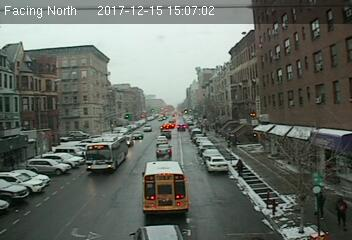bus: (84, 134, 128, 173)
car: (129, 223, 185, 240), (204, 155, 229, 173), (155, 144, 172, 154), (155, 135, 167, 143), (131, 131, 143, 139), (177, 124, 185, 132)
pedestrian: (334, 192, 351, 237), (316, 186, 326, 223), (235, 156, 244, 178)
truck: (141, 160, 189, 219)
